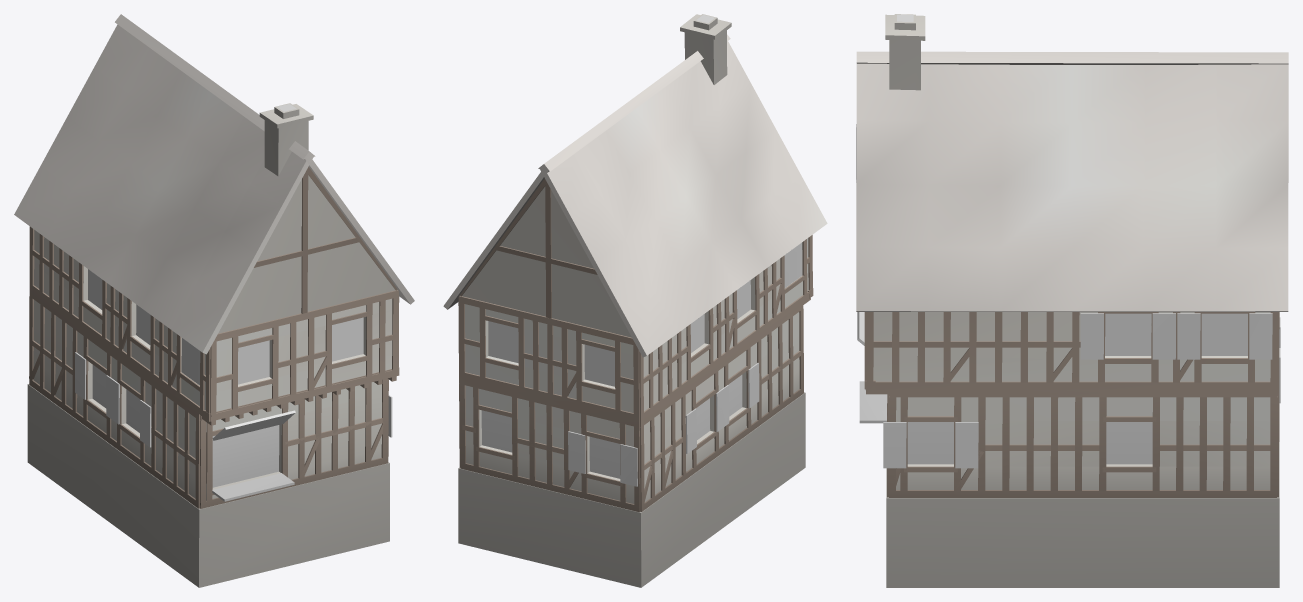
File: townhouse_4.glb
3 views of the same model, side by side, from view 1: azimuth 30°, elevation 25°; view 2: azimuth 150°, elevation 25°; view 3: azimuth 270°, elevation 25° (orthographic). The views are drawn at different scales.
Visible parts, largest first — view 1: townhouse_4; view 2: townhouse_4; view 3: townhouse_4.
Part boxes in pixels (left/top/right/bottom): townhouse_4: left=14, top=14, right=414, bottom=587; townhouse_4: left=443, top=14, right=827, bottom=587; townhouse_4: left=856, top=14, right=1288, bottom=587.
Bounding box in the file's own units: 6.68 × 13.54 × 10.27.
